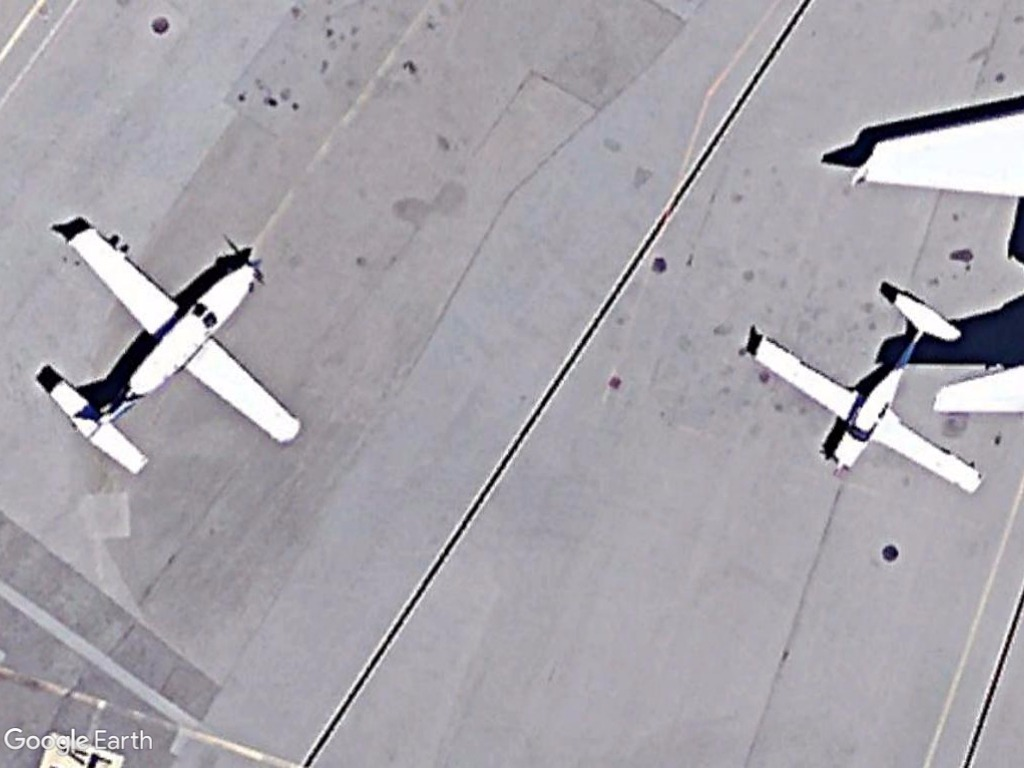trainer: (40, 201, 316, 481), (743, 281, 988, 499)
